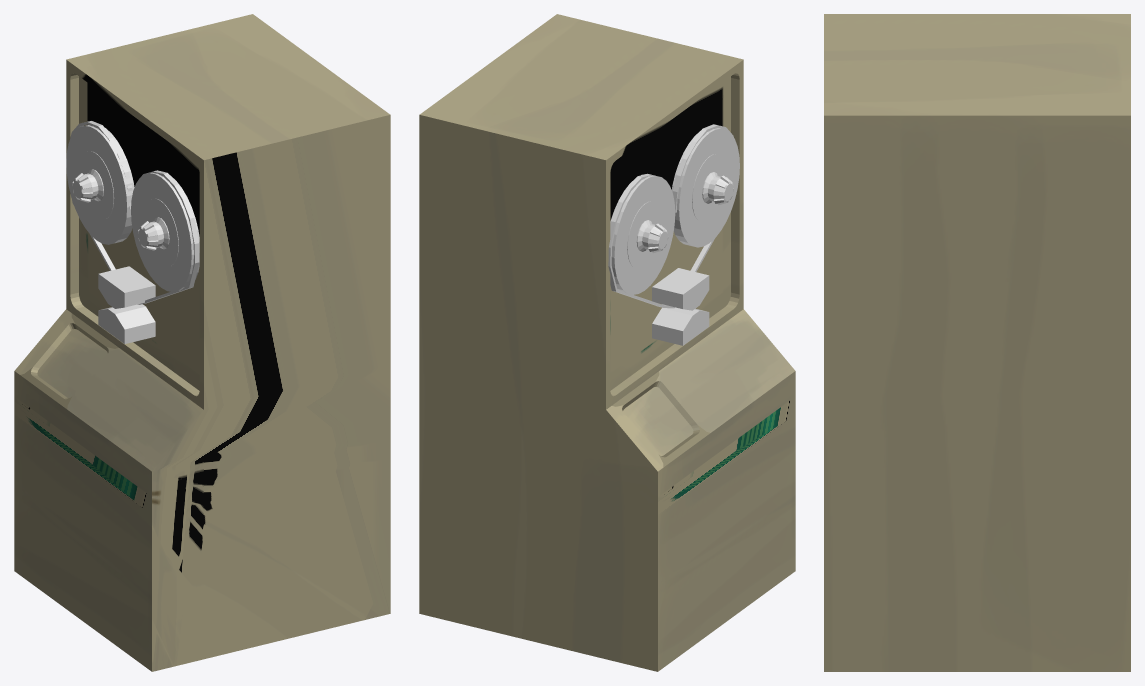
The model's file is Computer-3.glb.
3 views of the same model, side by side, from view 1: azimuth 30°, elevation 25°; view 2: azimuth 150°, elevation 25°; view 3: azimuth 270°, elevation 25° (orthographic). The views are drawn at different scales.
Parts seen in each view (by area): view 1: Computer-1-col.002, Cylinder.291, Cylinder.292, Cube.157, Cube.158, Plane.848, Cylinder.289, Cylinder.290; view 2: Computer-1-col.002, Cylinder.292, Cylinder.291, Cube.157, Plane.848, Cube.158, Cylinder.289, Cylinder.290; view 3: Computer-1-col.002.
Boxes of the visible parts, x1,y1,x2,y2 form: Computer-1-col.002: (14, 14, 390, 671); Cylinder.291: (66, 125, 134, 244); Cylinder.292: (131, 172, 199, 291); Cube.157: (98, 266, 155, 308); Cube.158: (98, 304, 155, 343); Plane.848: (70, 121, 199, 304); Cylinder.289: (138, 217, 169, 250); Cylinder.290: (72, 169, 103, 202); Computer-1-col.002: (419, 14, 795, 671); Cylinder.292: (671, 128, 739, 247); Cylinder.291: (610, 174, 675, 294); Cube.157: (652, 268, 709, 310); Plane.848: (608, 124, 733, 308); Cube.158: (652, 307, 709, 345); Cylinder.289: (702, 172, 733, 205); Cylinder.290: (636, 220, 668, 253); Computer-1-col.002: (824, 14, 1130, 671).
Size of the model in its own units: 0.5 by 1 by 0.5.
Materials: 1 (1 with a texture image).
